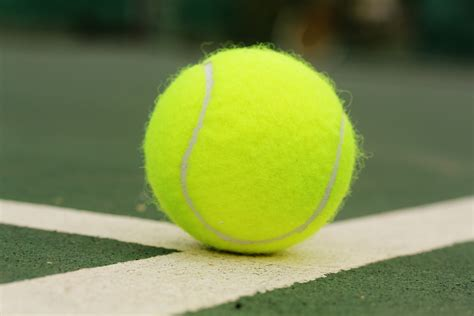tennis_ball: (138, 42, 364, 255)
